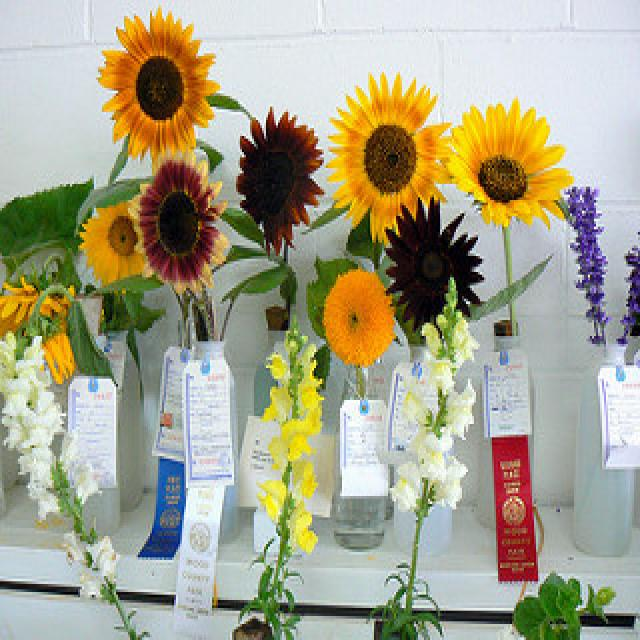sunflower: (440, 88, 578, 243), (94, 8, 230, 163), (324, 72, 450, 237), (230, 102, 324, 254), (6, 266, 92, 386), (80, 178, 144, 298)
